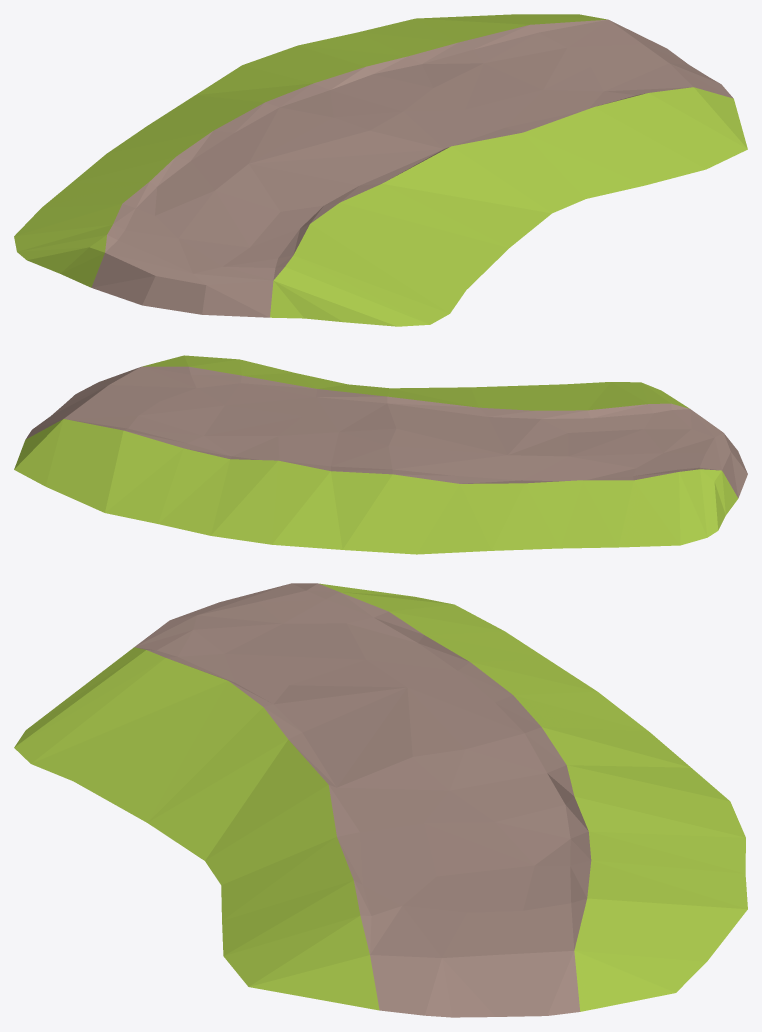
The model's file is Road_002.glb.
3 views of the same model, one above another, from view 1: azimuth 30°, elevation 25°; view 2: azimuth 150°, elevation 25°; view 3: azimuth 270°, elevation 25° (orthographic). The views are drawn at different scales.
Parts seen in each view (by area): view 1: Road_002; view 2: Road_002; view 3: Road_002.
Part boxes in pixels (box(x1,y1,x2,y2)): Road_002: box(14, 14, 747, 326); Road_002: box(14, 355, 747, 554); Road_002: box(14, 583, 747, 1017).
Size of the model in its own units: 52.57 by 3.34 by 39.76.
1 material, 1 textured.
